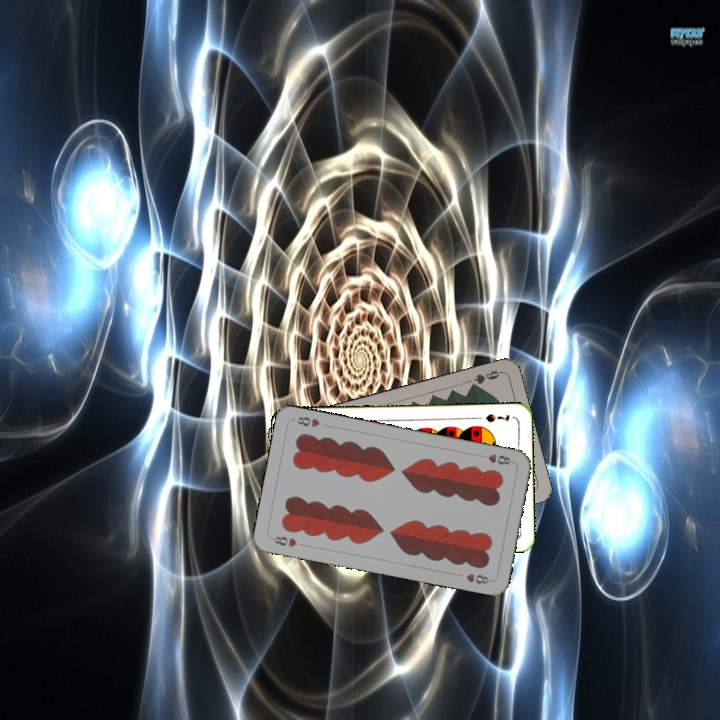G9: (466, 366, 504, 391)
H8: (475, 450, 513, 467), (267, 532, 299, 550)
S7: (482, 410, 512, 425)
